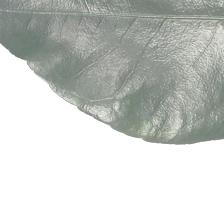healthy: (0, 0, 224, 143)
